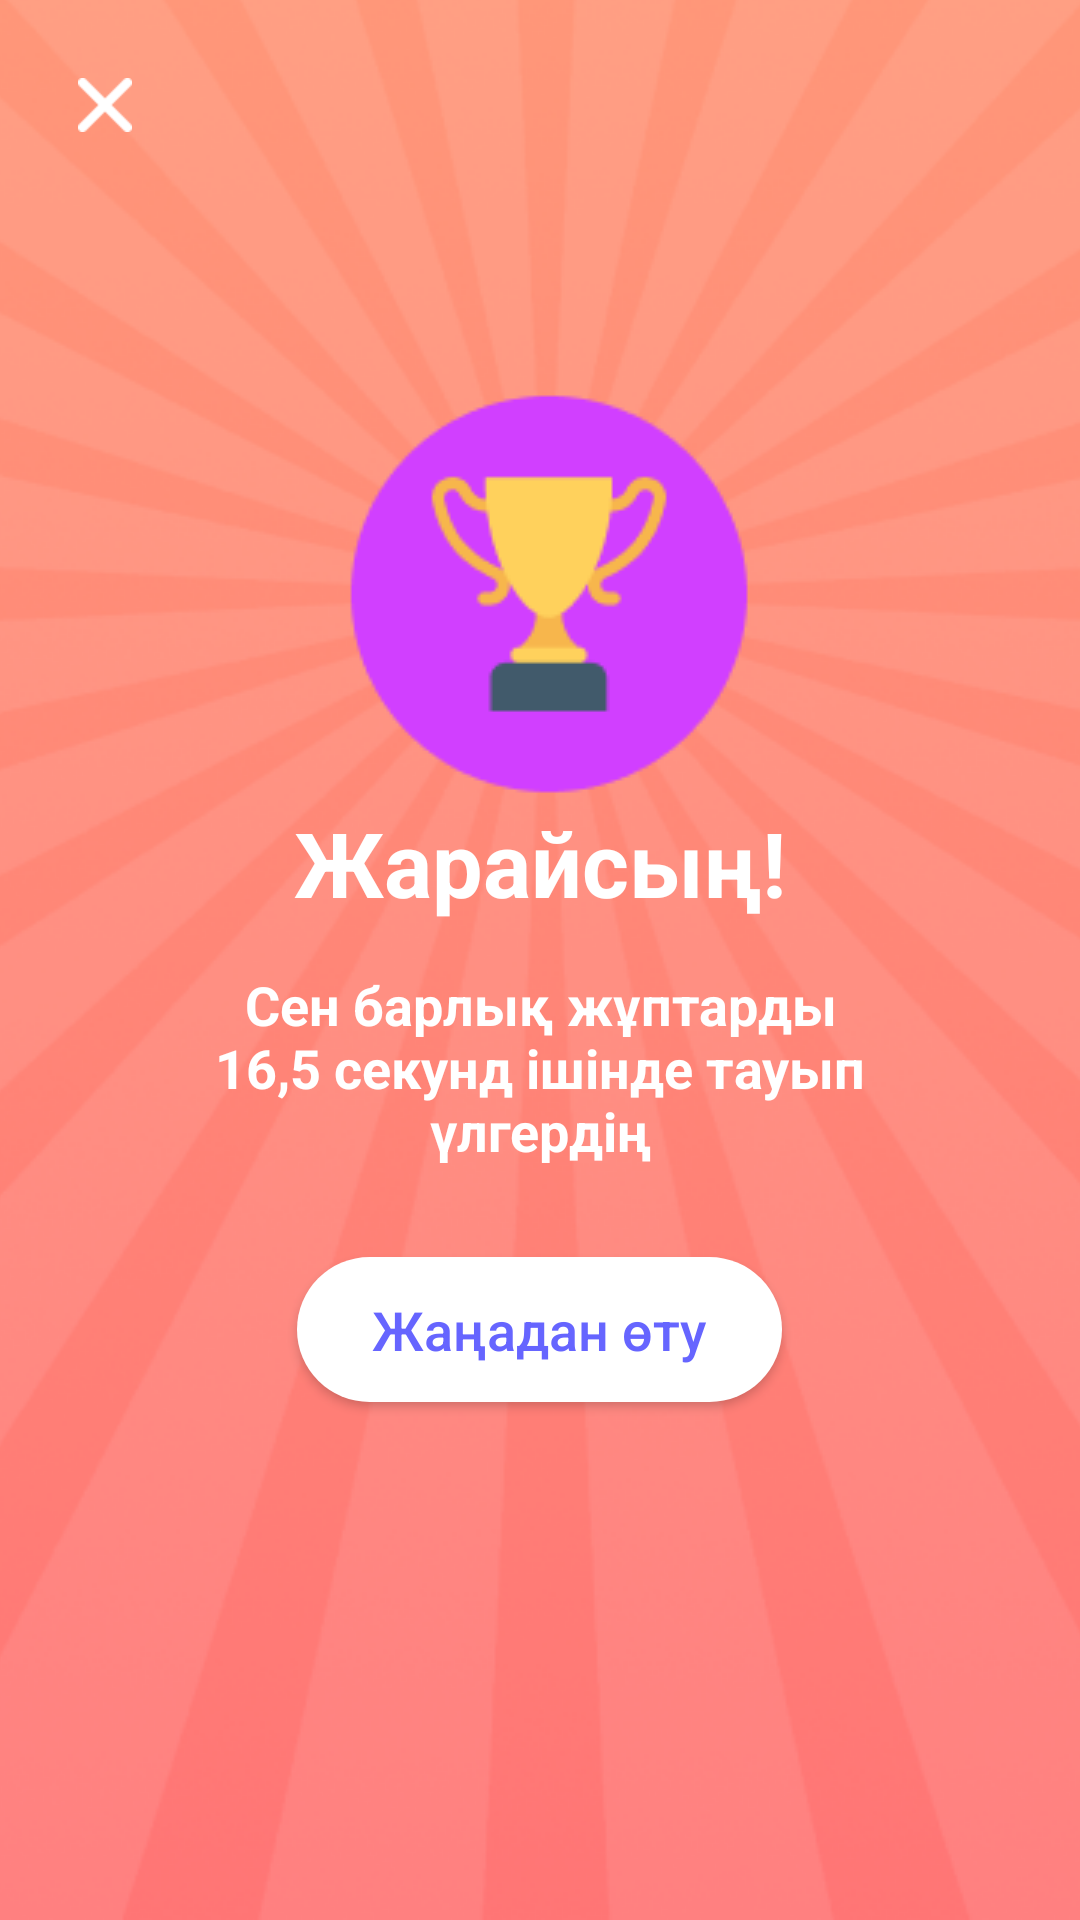

Icon bounding boxes for this 1080x1920 phone screenshot, format rect(x1, y1, x2, y2):
close: rect(78, 78, 132, 132)
